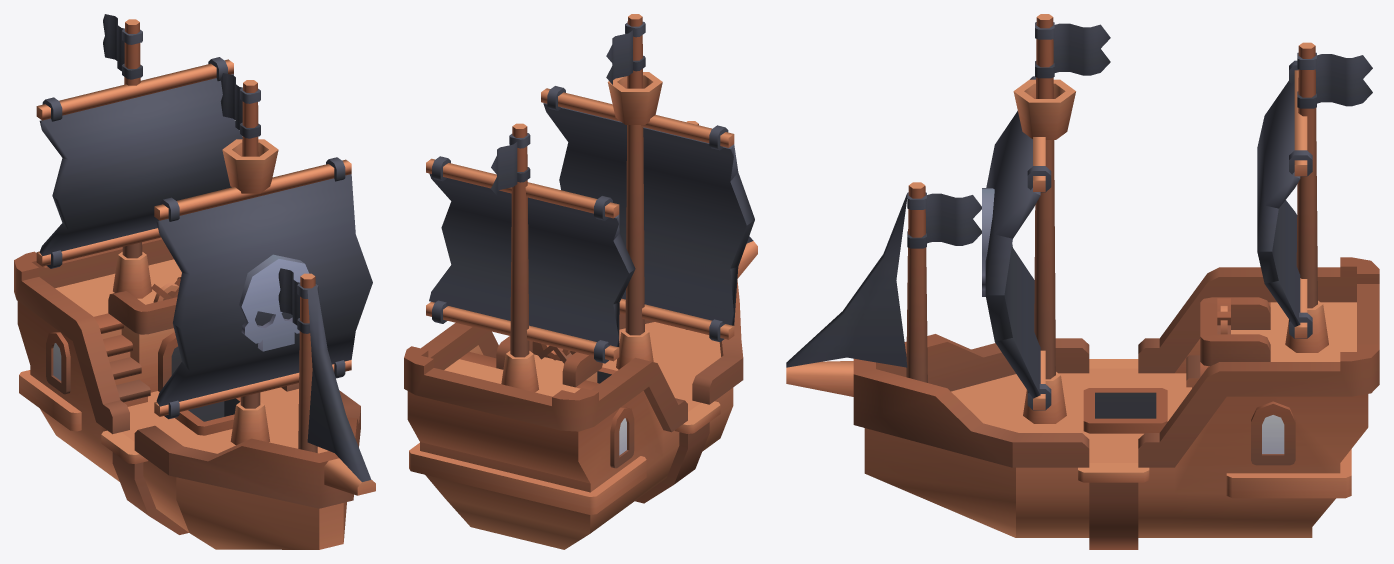
File: k-pirate-ship-pirate-medium.glb
3 views of the same model, side by side, from view 1: azimuth 30°, elevation 25°; view 2: azimuth 150°, elevation 25°; view 3: azimuth 270°, elevation 25° (orthographic). The views are drawn at different scales.
Visible parts, largest first — view 1: ship-pirate-medium, sail-a, sail-b, flag-b, flag-c, flag-a; view 2: ship-pirate-medium, sail-a, sail-b, flag-c, flag-b; view 3: ship-pirate-medium, sail-a, sail-b, flag-b, flag-c, flag-a.
Part boxes in pixels (<box>): ship-pirate-medium: <box>14,19,375,549</box>; sail-a: <box>154,157,372,419</box>; sail-b: <box>36,57,242,268</box>; flag-b: <box>220,73,260,138</box>; flag-c: <box>103,14,142,79</box>; flag-a: <box>278,268,318,333</box>; ship-pirate-medium: <box>404,14,757,549</box>; sail-a: <box>541,86,754,341</box>; sail-b: <box>426,156,635,363</box>; flag-c: <box>491,133,530,196</box>; flag-b: <box>606,21,645,84</box>; ship-pirate-medium: <box>786,14,1379,549</box>; sail-a: <box>982,76,1051,410</box>; sail-b: <box>1257,60,1312,338</box>; flag-b: <box>1035,22,1110,78</box>; flag-c: <box>1297,52,1372,108</box>; flag-a: <box>907,192,981,248</box>.
Size of the model in its own units: 4.8 by 9.96 by 10.6.
Materials: 1 (1 with a texture image).
